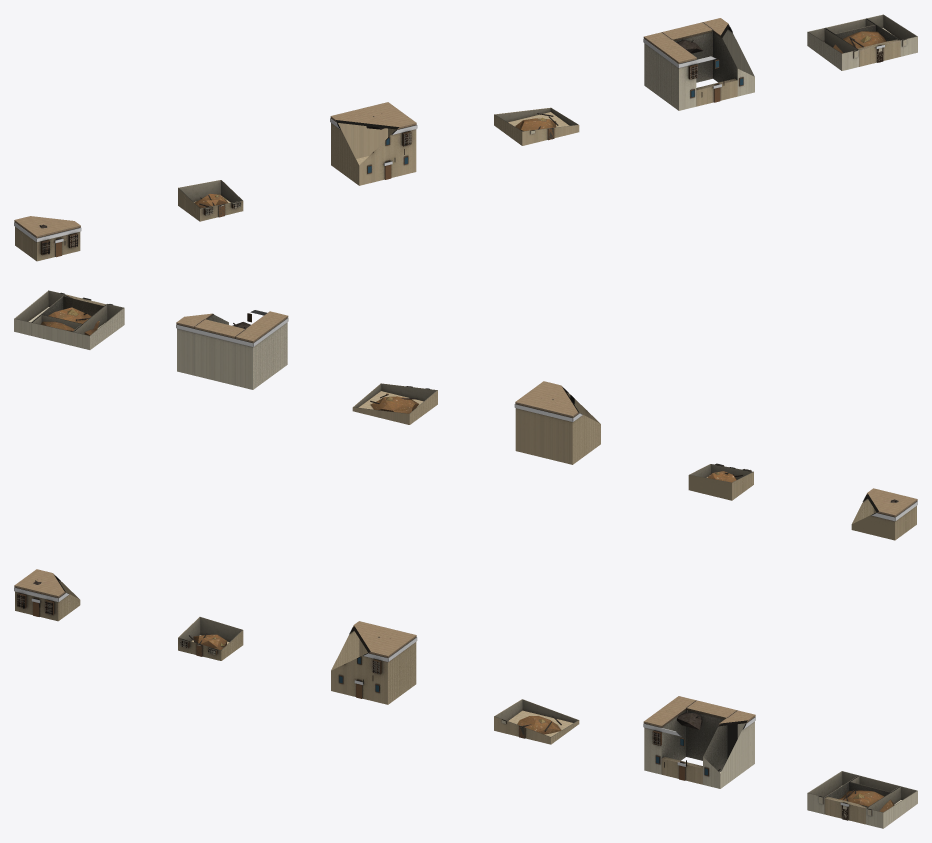
The model's file is gunpowder-nile-houses-damage.glb.
3 renders of one model, top to bottom at view 1: azimuth 30°, elevation 25°; view 2: azimuth 150°, elevation 25°; view 3: azimuth 330°, elevation 25°, orthographic.
Visible parts, largest first — view 1: LOD0.004, LOD0.002, LOD0.005, LOD0, LOD0.003, LOD0.001; view 2: LOD0.004, LOD0.002, LOD0.005, LOD0, LOD0.003, LOD0.001; view 3: LOD0.004, LOD0.002, LOD0.005, LOD0.003, LOD0, LOD0.001.
Boxes of the visible parts, x1,y1,x2,y2 form: LOD0.004: [643, 18, 754, 110]; LOD0.002: [330, 102, 417, 185]; LOD0.005: [807, 14, 917, 70]; LOD0: [14, 216, 81, 261]; LOD0.003: [494, 107, 579, 145]; LOD0.001: [178, 180, 243, 221]; LOD0.004: [176, 310, 288, 389]; LOD0.002: [514, 381, 600, 464]; LOD0.005: [14, 290, 124, 349]; LOD0: [851, 488, 917, 540]; LOD0.003: [352, 383, 437, 424]; LOD0.001: [688, 463, 753, 500]; LOD0.004: [643, 696, 755, 788]; LOD0.002: [331, 621, 417, 704]; LOD0.005: [807, 771, 917, 828]; LOD0.003: [494, 699, 579, 744]; LOD0: [14, 569, 80, 621]; LOD0.001: [178, 617, 243, 660].
Size of what is drawn, in the model's own units: 16.11 by 0.8788 by 1.17.
2 materials, 2 textured.
